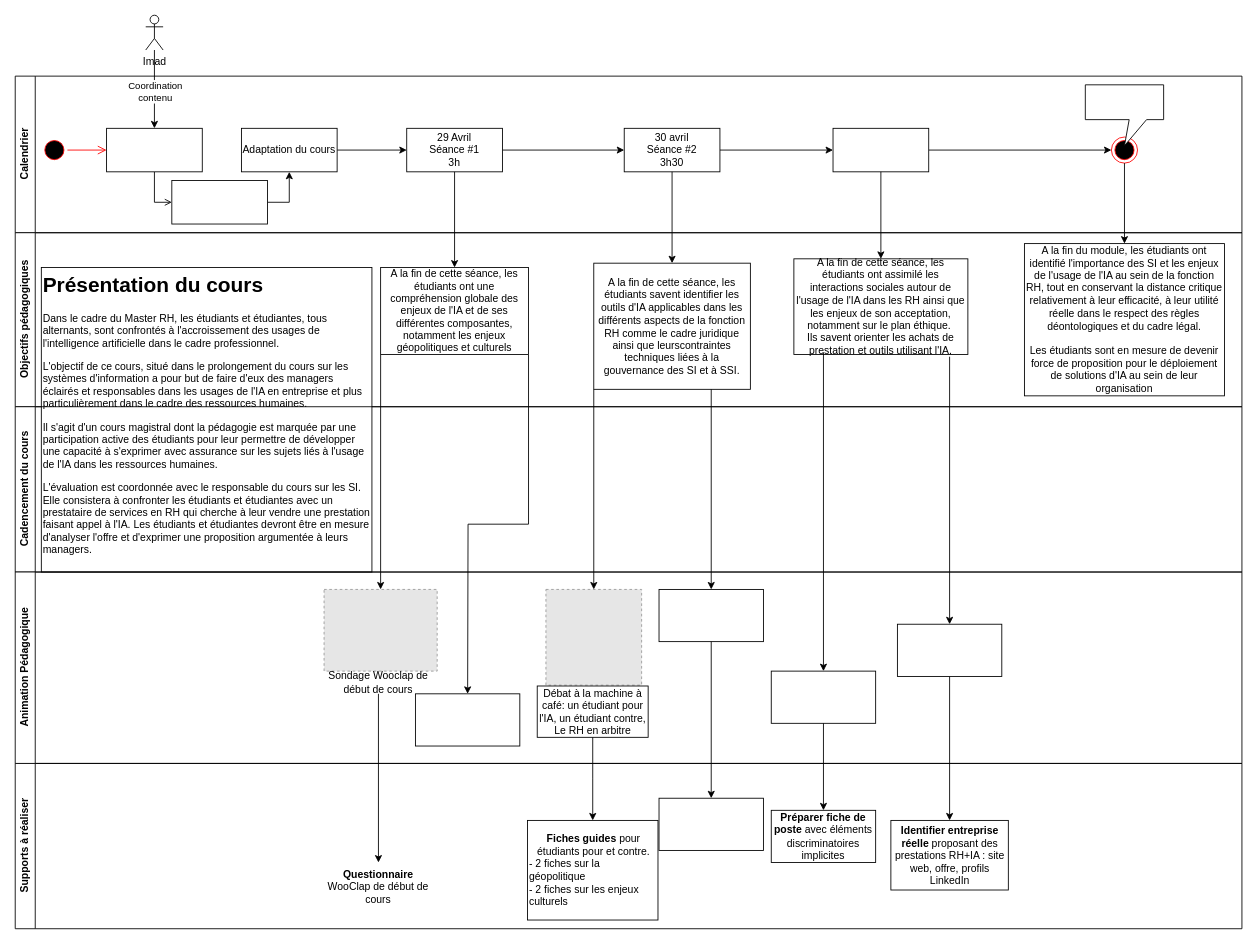
The diagram is 1257 pixels wide and 944 high, and some of its shapes have lost their labels. Grey dashed boxes stand in for pictures. Here are the shapes that lost their labels. From the top down, the centre of each, then its label:
At [1124,115]: "4 juin Examen sur table".
At [154,149]: "21 mars Reprise du contenu".
At [880,149]: "19 mai Séance #3 3h30".
At [219,202]: "Mi-Avril Vérification avec IDIP".
At [710,615]: "Exercice de Brainstorming sur la SSI adaptée aux RH".
At [949,649]: "Travail en groupe: analyse critique d'une offre commerciale".
At [823,696]: "Exercice de groupe : Traitement des discriminations par l'IA".
At [467,719]: "Travail collectif : création d'un schéma heuristique des enjeux de l'IA".
At [710,823]: "Modèle Wooclap pour le brainstorming".
